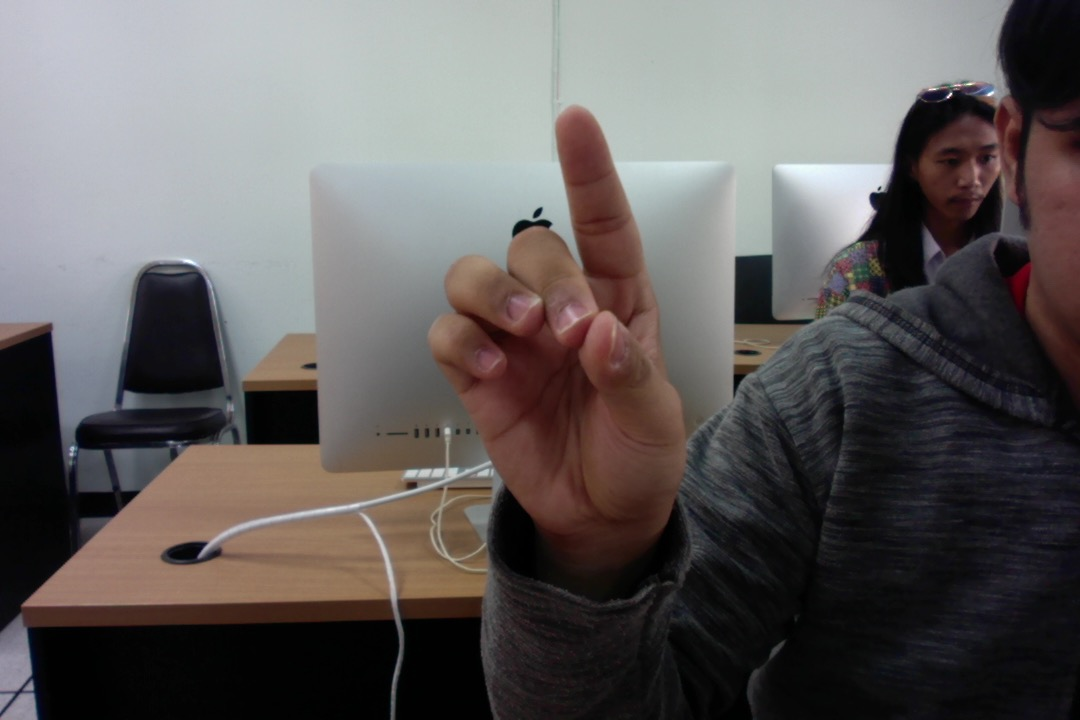dor: (420, 95, 703, 568)
